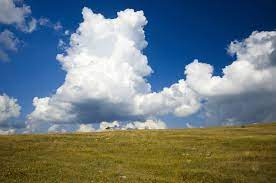Cumulus: (33, 5, 167, 122), (158, 18, 276, 122)
